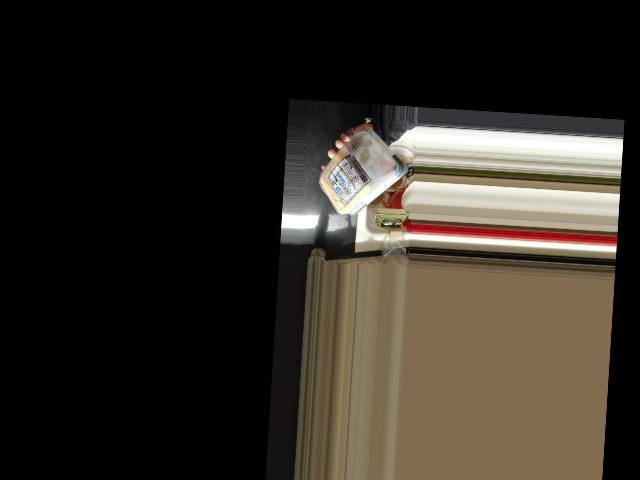cheese: (322, 127, 397, 218)
